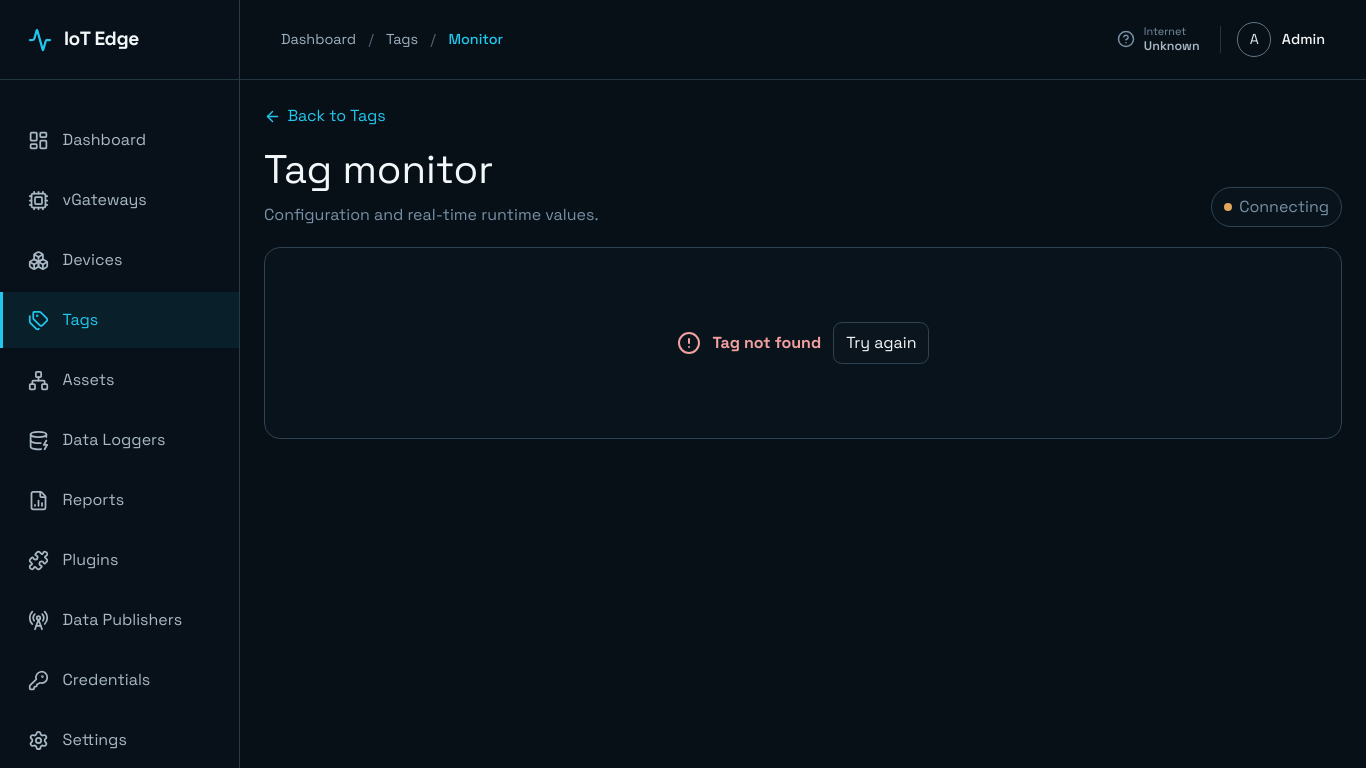
Test case: TagDetailPage › shows load failures and retries both definition and history
Expected: the message "Tag not found Try again" is shown, x1=264 y1=248 x2=1342 y2=440
Click the button "Try again" at {"x": 881, "y": 344}, box x1=833 y1=322 x2=929 y2=364
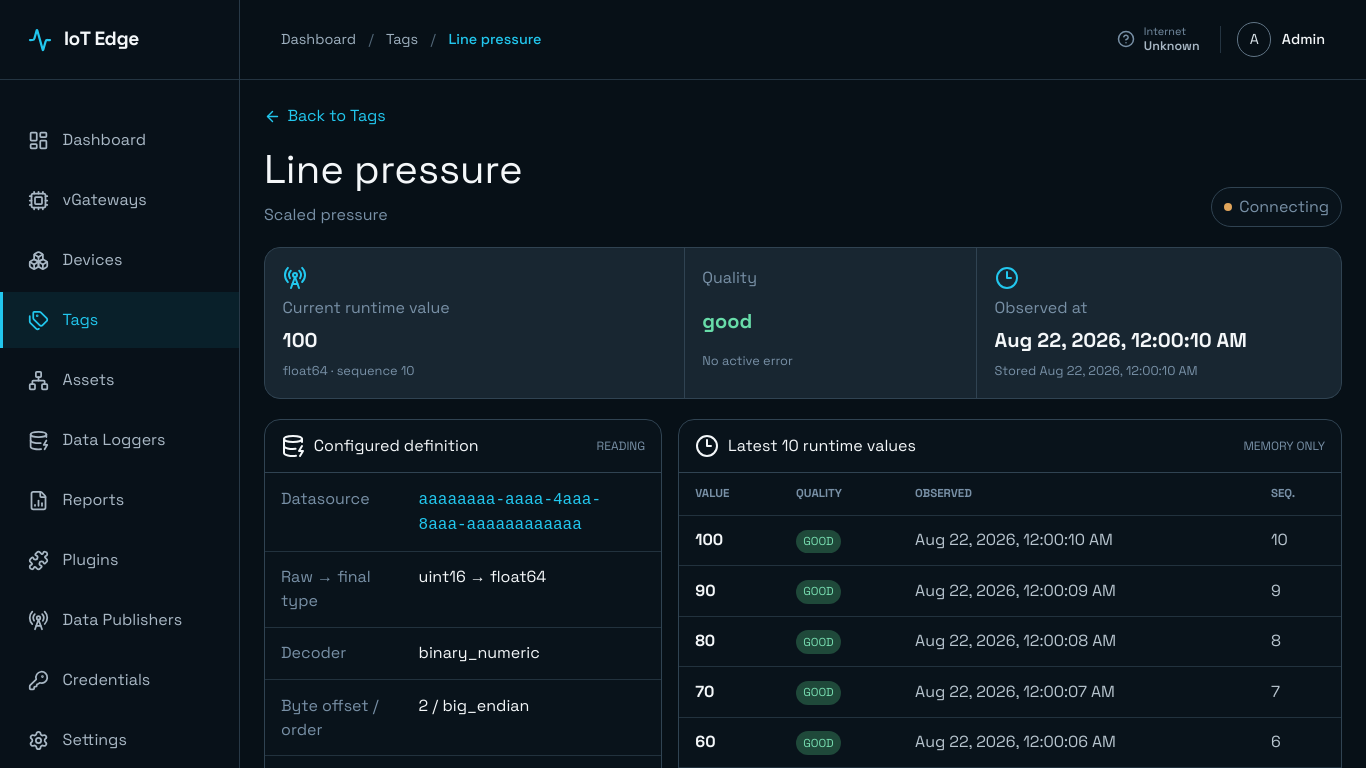
Expected: the heading "Line pressure" is shown, x1=264 y1=140 x2=523 y2=200
